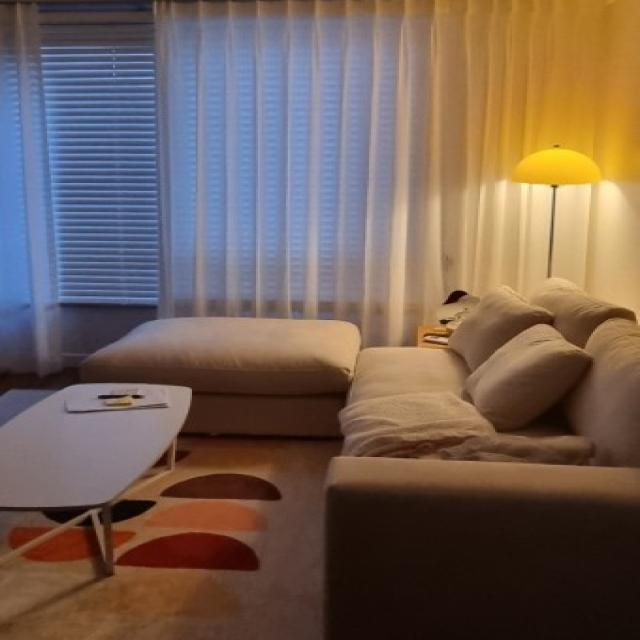Chair: (97, 301, 346, 423)
Sofa: (347, 280, 640, 633)
Table: (9, 375, 198, 572)
